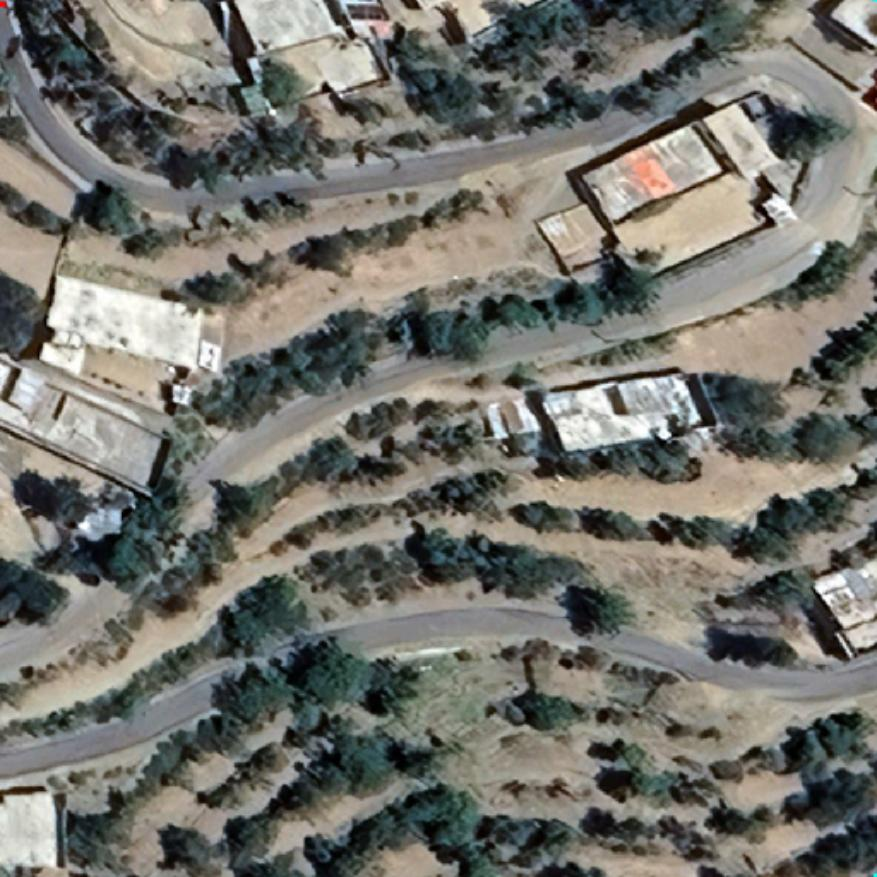Solarpanel: (344, 1, 390, 23)
